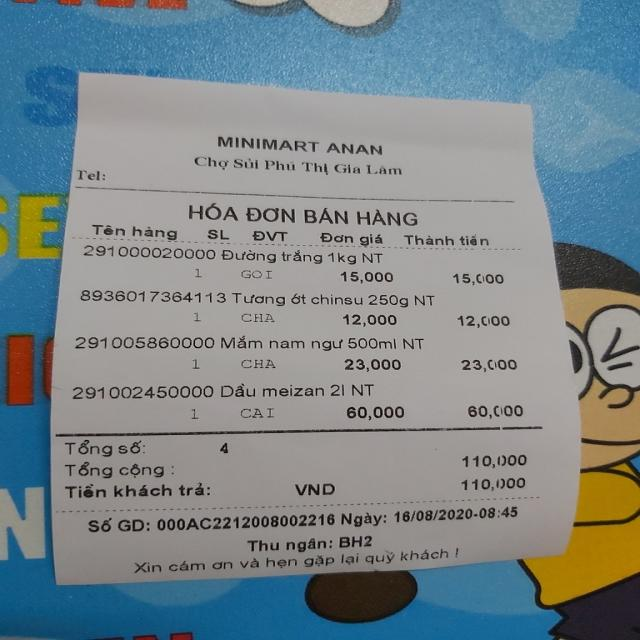Date: (391, 506, 474, 523)
Store_Name: (214, 133, 390, 159)
amount_number: (453, 452, 530, 469)
label_total: (66, 463, 166, 478)
